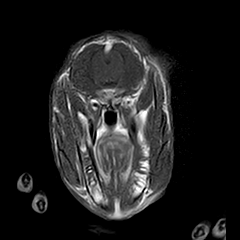Brain: (59, 15, 158, 113)
